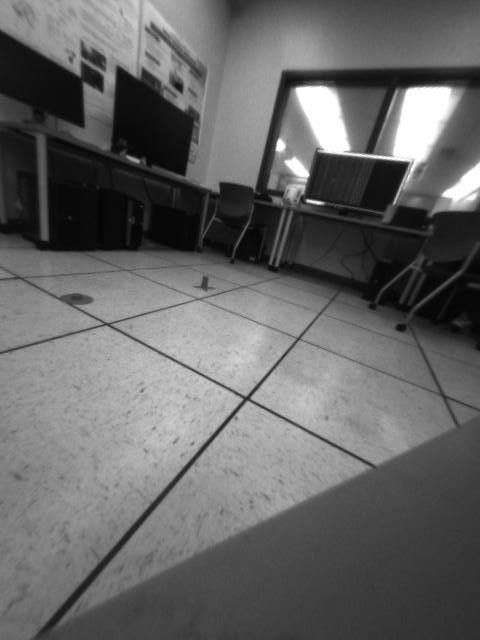X: (191, 276, 216, 293)
